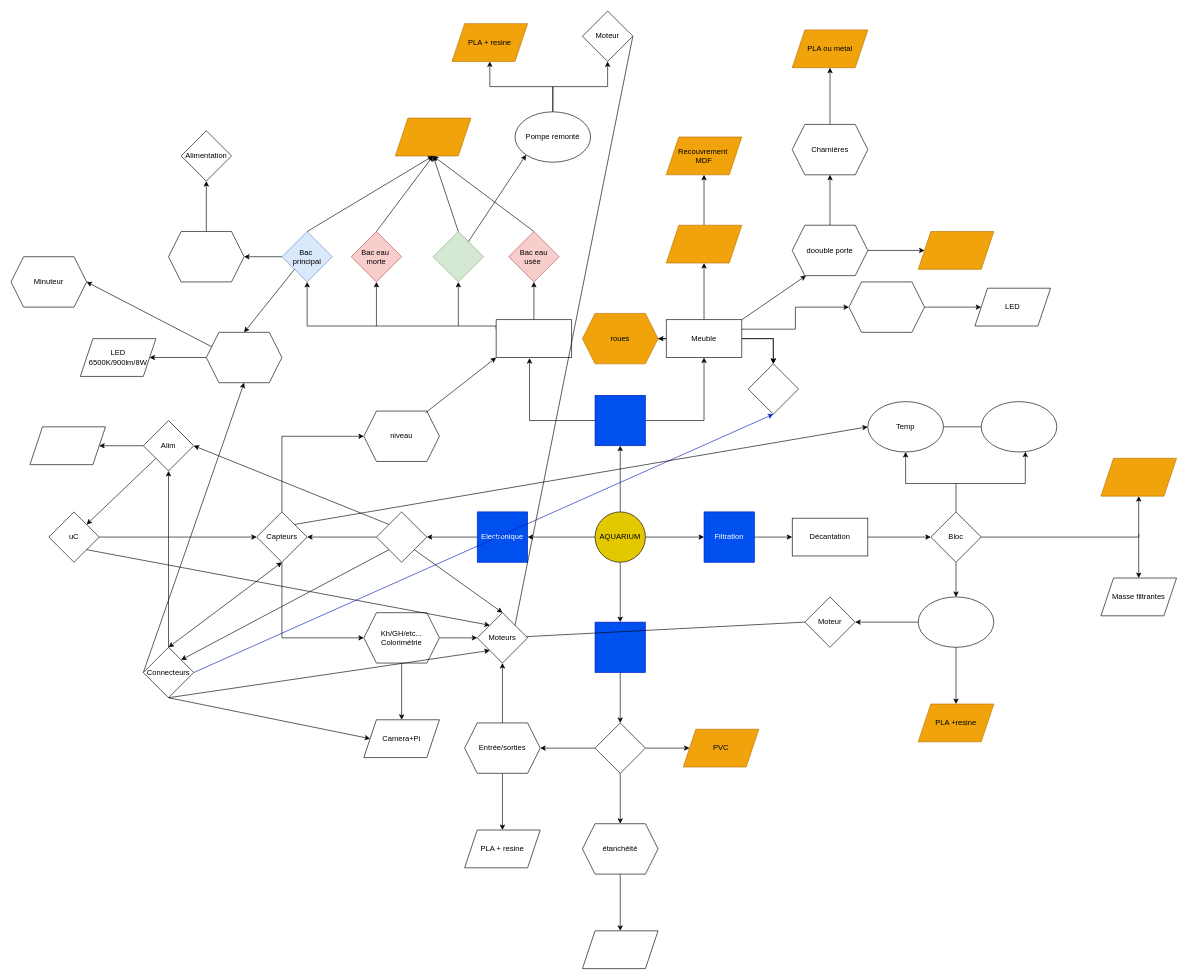
Image size: 1188x980. Some labels were removed from this diagram. The shapes that lost their labels are listed below. From the top down, each one's centre as x and y in pixels, then its label:
point (433, 136): Acrylique
point (206, 256): Poissons Plantes Substrat
point (458, 256): Bac eau propre
point (704, 244): Profilé Alu
point (956, 250): MDF
point (886, 306): Éclairage
point (244, 357): Lumière
point (533, 338): Bac(s)
point (773, 388): Écran
point (619, 420): Mobilier
point (1019, 426): PH
point (67, 445): secteur
point (1138, 477): PLA + résine
point (401, 536): PCB
point (956, 621): Pompe
point (619, 647): Mécanique
point (619, 747): Tuyaux
point (620, 949): Bac
